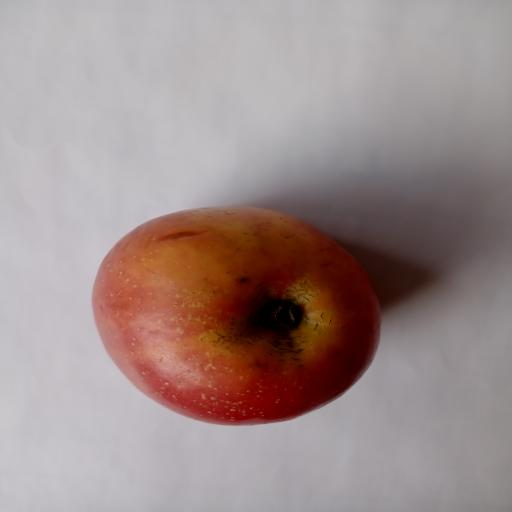apple-ripe: (76, 191, 390, 440)
